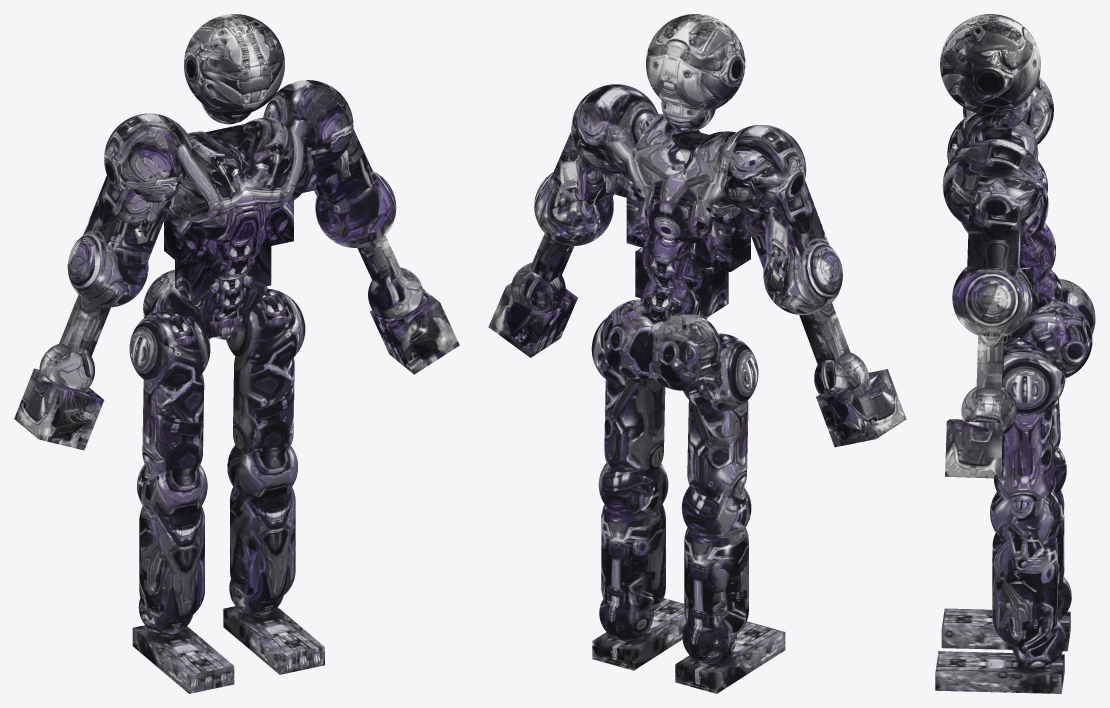
The model's file is tori.glb.
3 renders of one model, left to right at view 1: azimuth 30°, elevation 25°; view 2: azimuth 150°, elevation 25°; view 3: azimuth 270°, elevation 25°, orthographic.
Parts seen in each view (by area): view 1: head.jpg, r_leg.jpg, l_leg.jpg, j_r_shoulder.jpg, l_thigh.jpg, r_thigh.jpg, j_l_pecs.jpg, j_l_shoulder.jpg, j_r_hip.jpg, j_r_pecs.jpg, r_hand.jpg, j_r_elbow.jpg (+22 smaller); view 2: head.jpg, j_r_shoulder.jpg, r_leg.jpg, l_leg.jpg, j_l_shoulder.jpg, l_thigh.jpg, r_thigh.jpg, j_r_glute.jpg, j_r_elbow.jpg, r_hand.jpg, r_biceps.jpg, r_foot.jpg (+23 smaller); view 3: head.jpg, l_leg.jpg, j_l_shoulder.jpg, l_foot.jpg, j_l_elbow.jpg, l_thigh.jpg, j_l_hip.jpg, j_l_glute.jpg, l_hand.jpg, l_biceps.jpg, j_l_knee.jpg, r_foot.jpg (+16 smaller).
Part boxes in pixels (box(x1,y1,x2,y2)): head.jpg: box(184, 14, 284, 115); r_leg.jpg: box(139, 506, 204, 621); l_leg.jpg: box(230, 487, 295, 602); j_r_shoulder.jpg: box(104, 113, 191, 202); l_thigh.jpg: box(233, 357, 294, 457); r_thigh.jpg: box(142, 374, 204, 476); j_l_pecs.jpg: box(237, 117, 313, 208); j_l_shoulder.jpg: box(263, 80, 353, 170); j_r_hip.jpg: box(129, 312, 210, 386); j_r_pecs.jpg: box(169, 131, 245, 222); r_hand.jpg: box(14, 368, 104, 450); j_r_elbow.jpg: box(67, 231, 148, 307); head.jpg: box(646, 14, 745, 110); j_r_shoulder.jpg: box(716, 125, 806, 213); r_leg.jpg: box(684, 528, 748, 634); l_leg.jpg: box(601, 504, 665, 611); j_l_shoulder.jpg: box(571, 84, 658, 173); l_thigh.jpg: box(604, 380, 665, 474); r_thigh.jpg: box(687, 400, 748, 497); j_r_glute.jpg: box(644, 314, 719, 390); j_r_elbow.jpg: box(763, 241, 842, 314); r_hand.jpg: box(816, 369, 906, 447); r_biceps.jpg: box(741, 180, 828, 270); r_foot.jpg: box(675, 621, 785, 693); head.jpg: box(940, 14, 1040, 114); l_leg.jpg: box(992, 533, 1057, 646); j_l_shoulder.jpg: box(952, 139, 1043, 223); l_foot.jpg: box(935, 651, 1064, 693); j_l_elbow.jpg: box(952, 267, 1032, 336); l_thigh.jpg: box(994, 407, 1054, 502); j_l_hip.jpg: box(1003, 337, 1065, 415); j_l_glute.jpg: box(1011, 301, 1092, 378); l_hand.jpg: box(945, 419, 1004, 478); l_biceps.jpg: box(967, 199, 1021, 280); j_l_knee.jpg: box(990, 490, 1060, 543); r_foot.jpg: box(941, 608, 1070, 651).
Bounding box in the file's own units: 18.75 × 28 × 6.33.
Materials: 39 (39 with a texture image).
